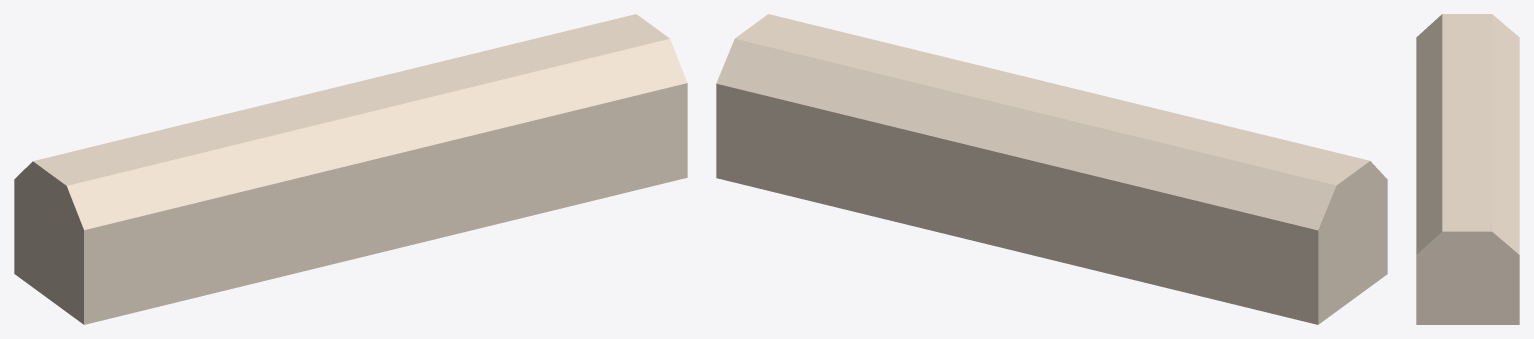
The model's file is temple_Wall_Straight_Coping.glb.
The picture shows the model from 3 angles, left to right: view 1: azimuth 30°, elevation 25°; view 2: azimuth 150°, elevation 25°; view 3: azimuth 270°, elevation 25°; orthographic projection. The views are drawn at different scales.
Visible parts, largest first — view 1: object1; view 2: object1; view 3: object1.
Boxes of the visible parts, bbox=[...] form: object1: bbox=[14, 14, 687, 324]; object1: bbox=[716, 14, 1387, 324]; object1: bbox=[1416, 14, 1519, 324].
Bounding box in the file's own units: 1 × 0.2 × 0.2.
